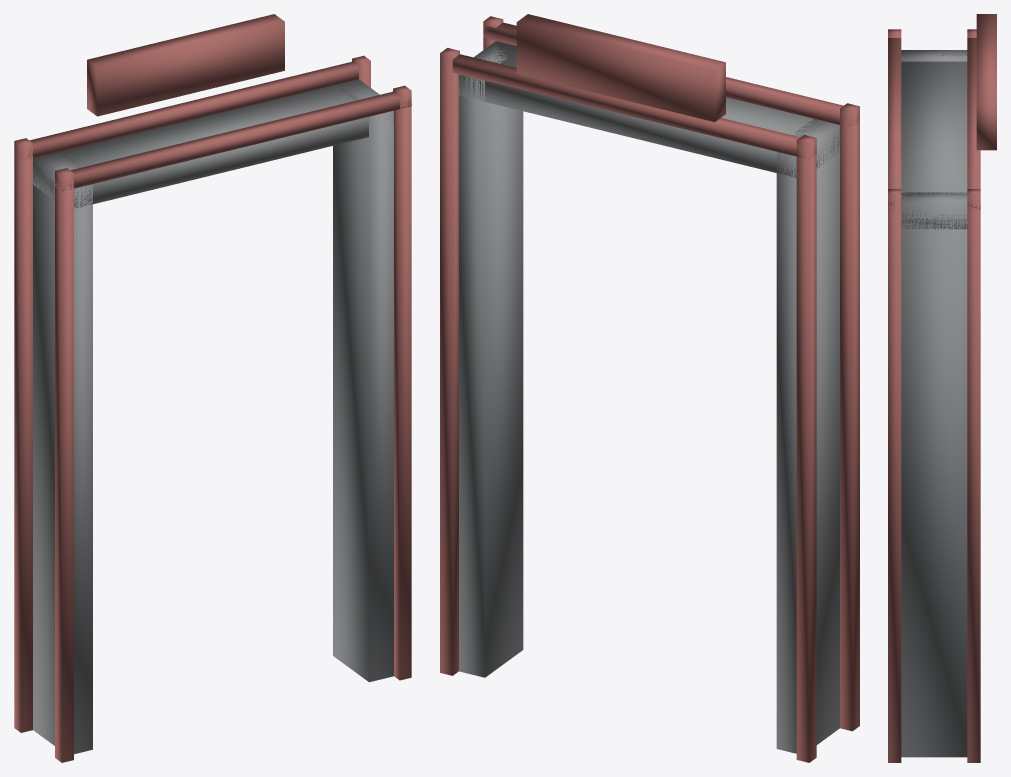
Rendered from doorway_emergency_exit_w106_h200_d24.glb.
3 views of the same model, side by side, from view 1: azimuth 30°, elevation 25°; view 2: azimuth 150°, elevation 25°; view 3: azimuth 270°, elevation 25° (orthographic). The views are drawn at different scales.
Parts seen in each view (by area): view 1: world; view 2: world; view 3: world.
Boxes of the visible parts, left/top/right/bottom form: world: left=14, top=14, right=411, bottom=762; world: left=440, top=14, right=859, bottom=762; world: left=888, top=14, right=996, bottom=762.
Bounding box in the file's own units: 1.34 × 2.36 × 0.3739.
